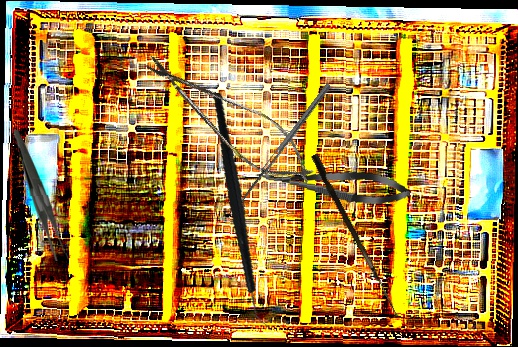Chopper: (173, 91, 313, 333)
Dressing Forceps: (13, 129, 69, 262)
Hook Surgical: (308, 153, 405, 317)
Micro Scissor: (131, 41, 327, 199), (258, 159, 413, 210)
Spatula Surgical: (235, 82, 336, 212)
